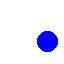circle: (37, 31, 57, 51)
